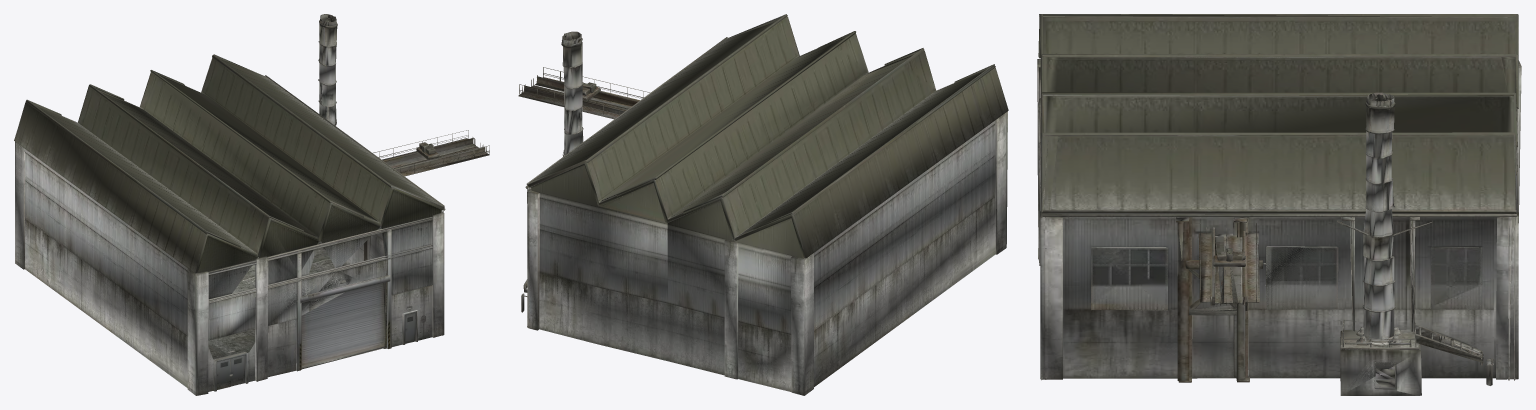
The model's file is war_factory.glb.
The picture shows the model from 3 angles, left to right: view 1: azimuth 30°, elevation 25°; view 2: azimuth 150°, elevation 25°; view 3: azimuth 270°, elevation 25°; orthographic projection. The views are drawn at different scales.
Visible parts, largest first — view 1: hull; view 2: hull; view 3: hull.
Boxes of the visible parts, bbox=[...] form: hull: bbox=[14, 14, 489, 395]; hull: bbox=[518, 14, 1008, 395]; hull: bbox=[1037, 14, 1521, 395].
Size of the model in its own units: 18 by 10.64 by 16.01.
Materials: 3 (3 with a texture image).
